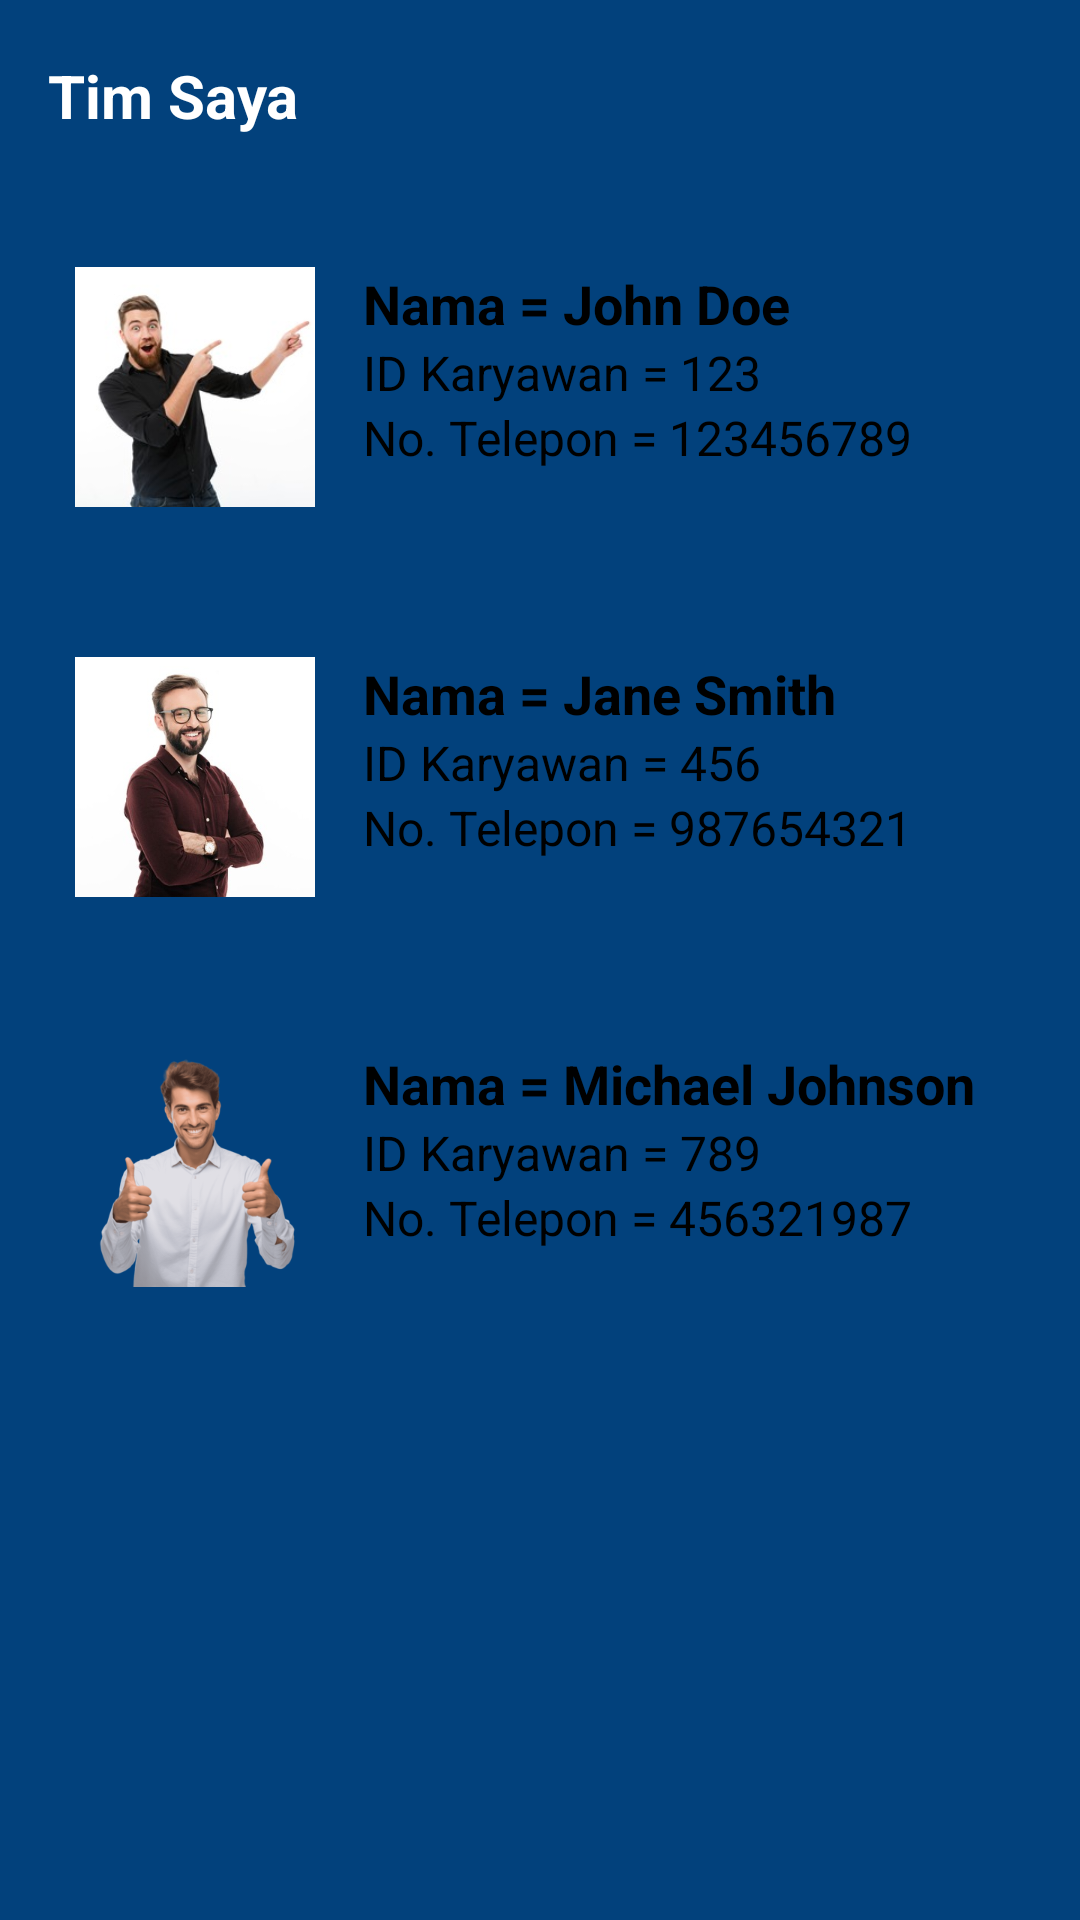

Point at icon controls on the screen. Image size 1080w x 1920h, points as [x,y].
person: [195,387], [195,777], [197,1173]
